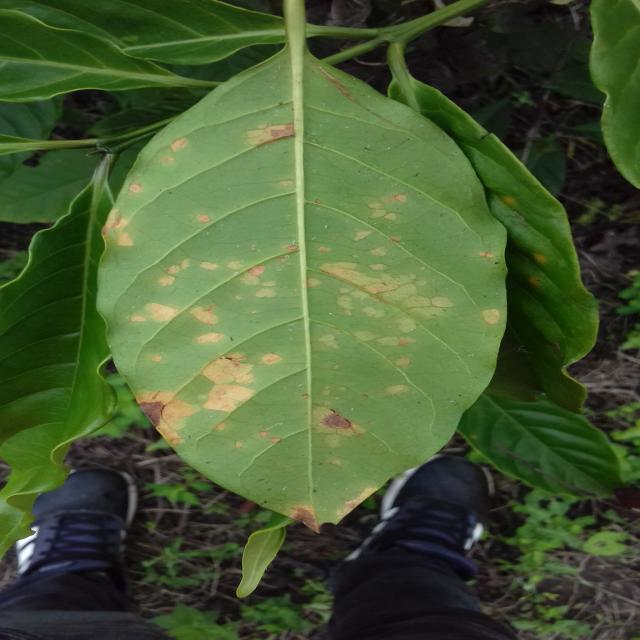Enfermedad-Roya: (106, 17, 508, 527)
